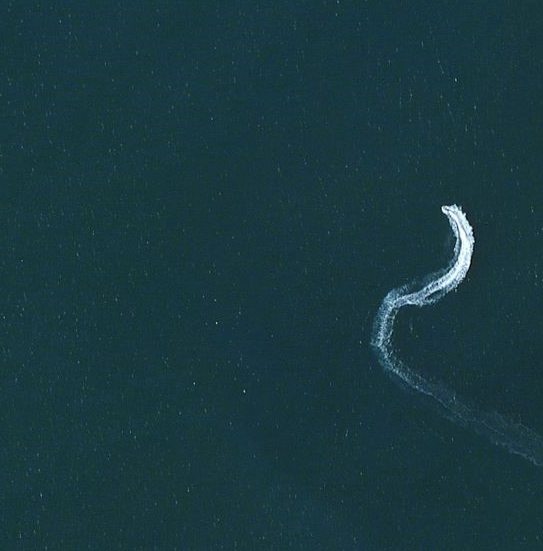ship: (441, 206, 459, 220)
